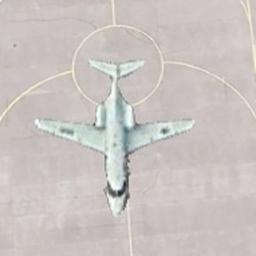Airplane: (33, 55, 195, 217)
